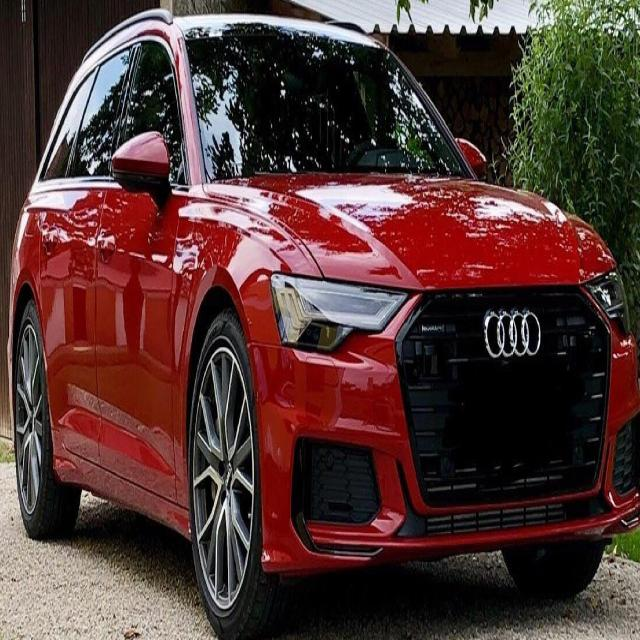red: (10, 0, 640, 638)
